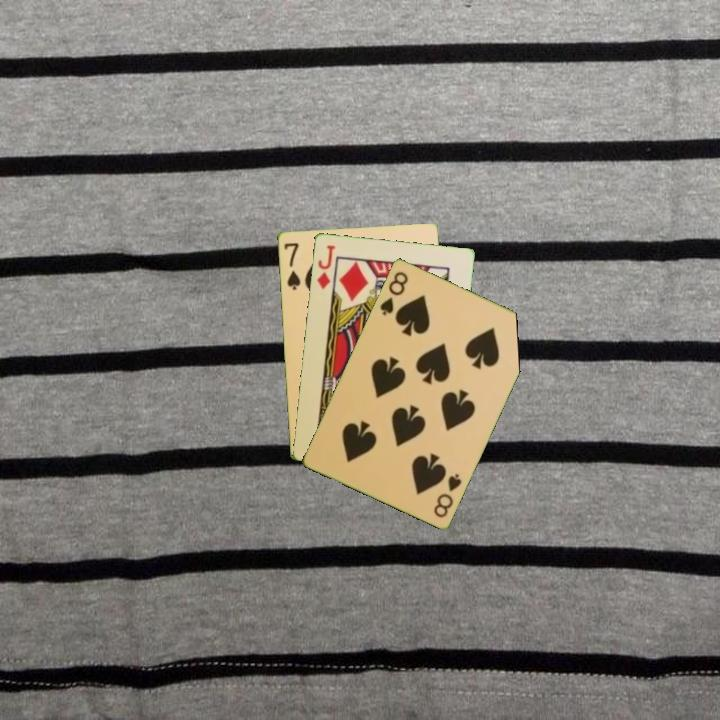7s: (281, 239, 303, 292)
8s: (376, 267, 411, 318), (430, 469, 464, 520)
Jd: (313, 241, 337, 292)
